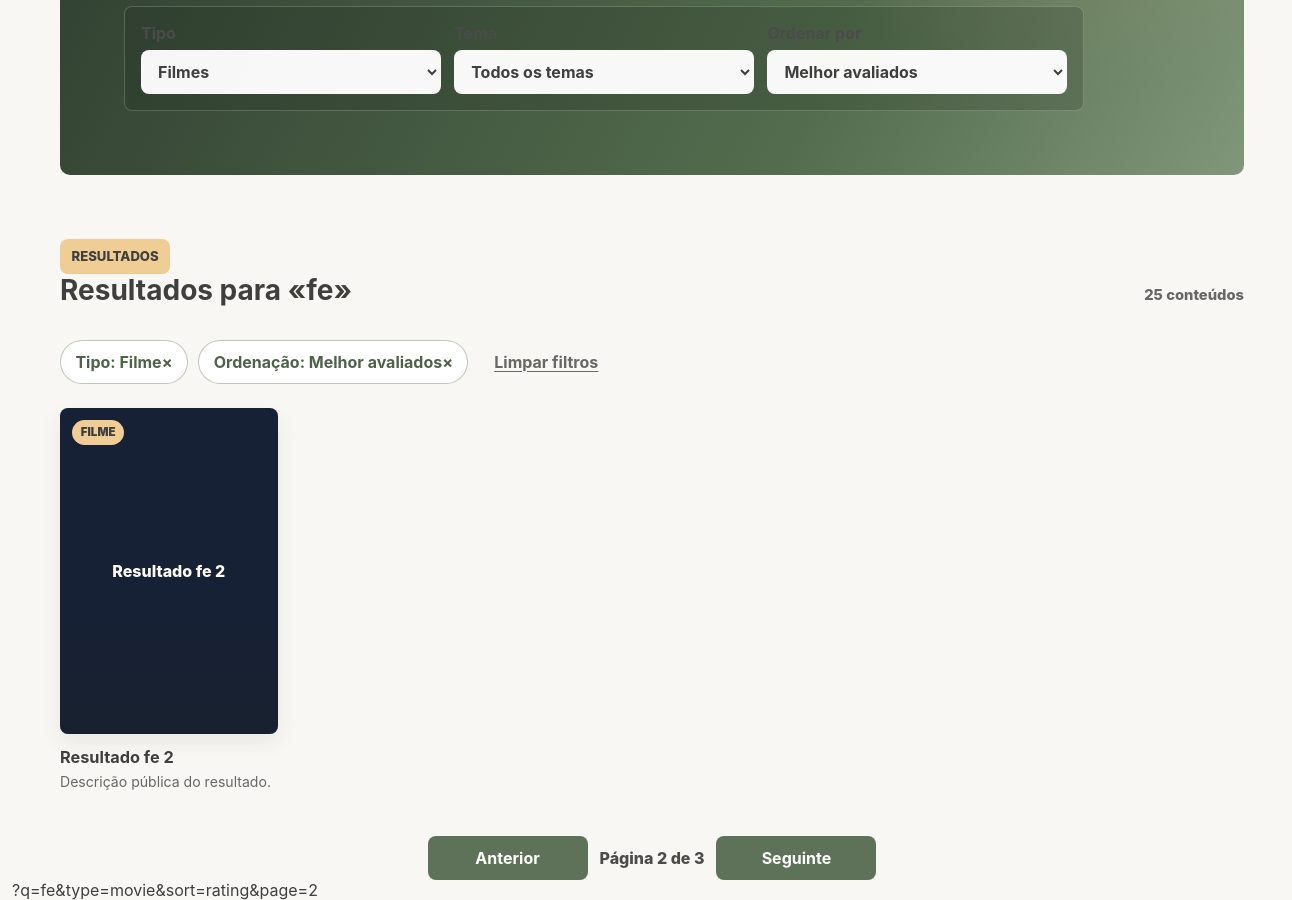
Scenario: SearchPage › restaura filtros/página do URL e pagina preservando-os
(page scrolled)
Check: the link with aria-label "Ver detalhe: Resultado fe 2" is shown, box [60,408,278,792]
Click the button "Seguinte" at point(796, 858), box [716,836,876,880]
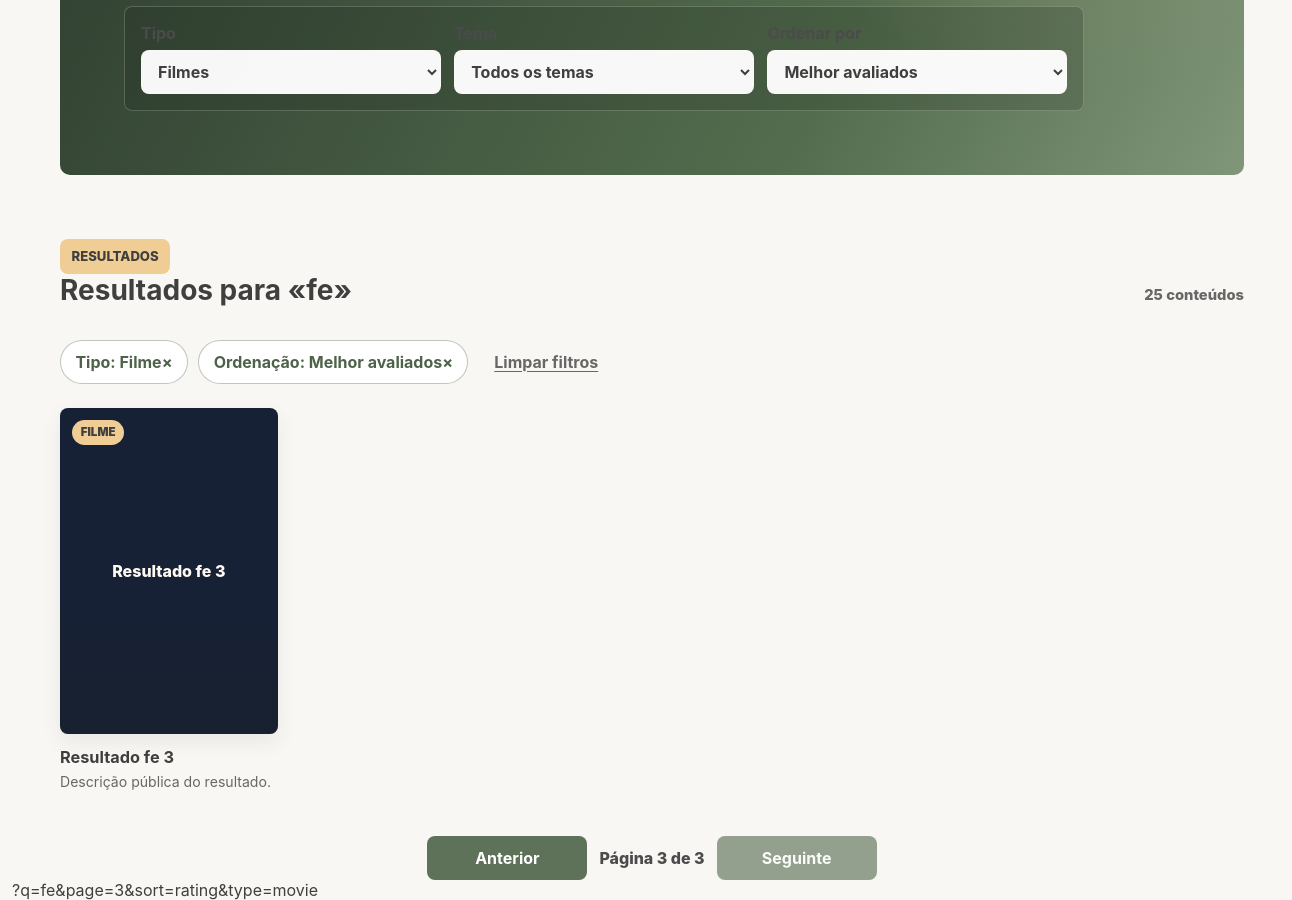
Check: the text with test id "search-location" shows "type=movie", box [12,880,318,899]
Check: the link with aria-label "Ver detalhe: Resultado fe 3" is shown, box [60,408,278,792]
Check: the text with test id "search-location" shows "page=3", box [12,880,318,899]
